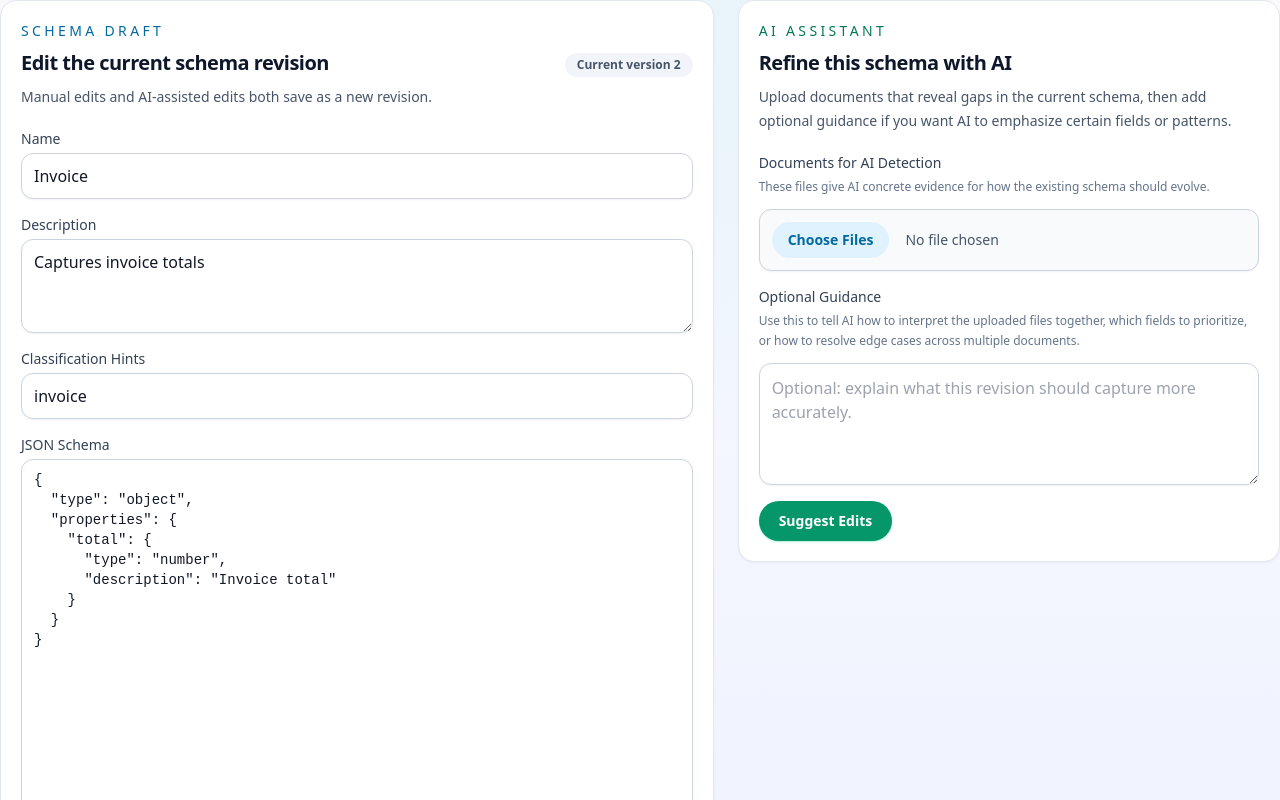
SchemaWorkbench › shows edit diffs, applies them, and can discard the suggestion
The image size is (1280, 800).
Replace the text in the text box labelled "Optional Guidance" with "Add line items": (1009, 424) x1=759 y1=363 x2=1259 y2=485
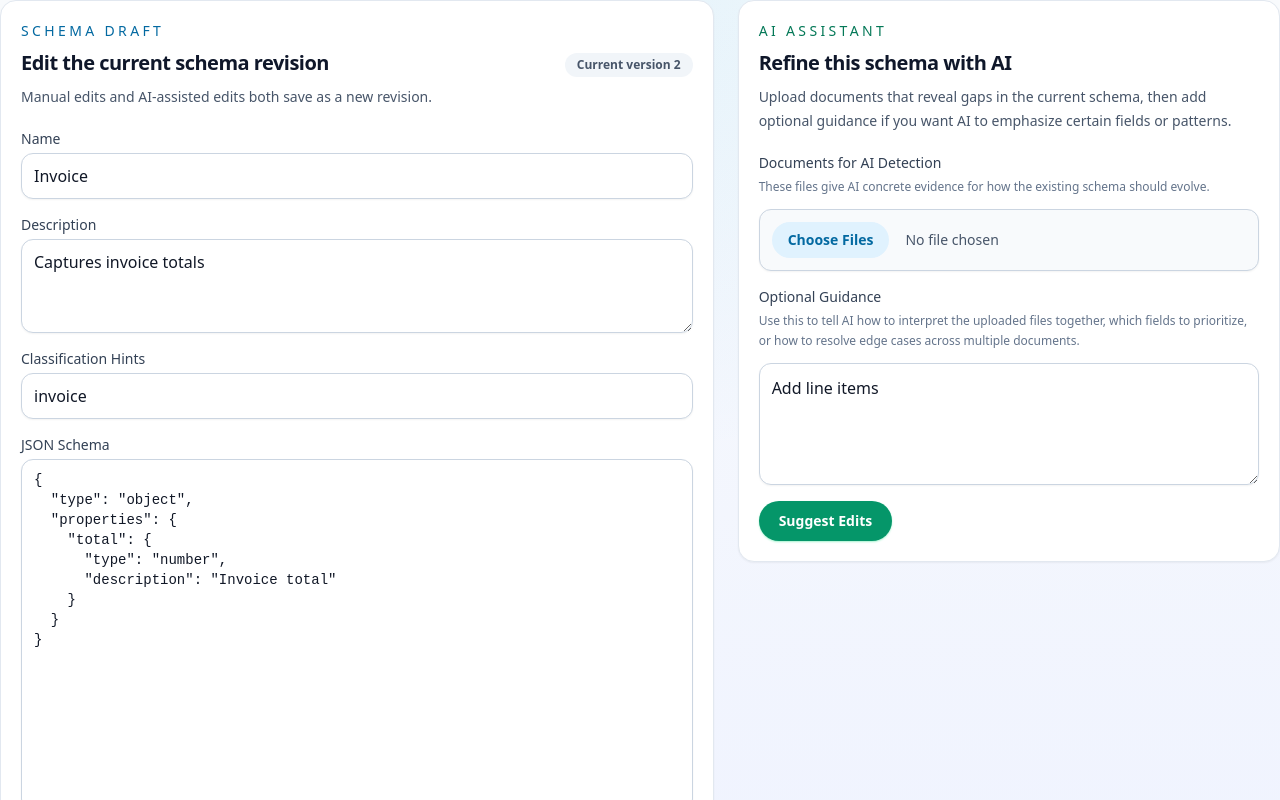
Click the button "Suggest Edits": click(825, 521) x1=759 y1=501 x2=892 y2=541
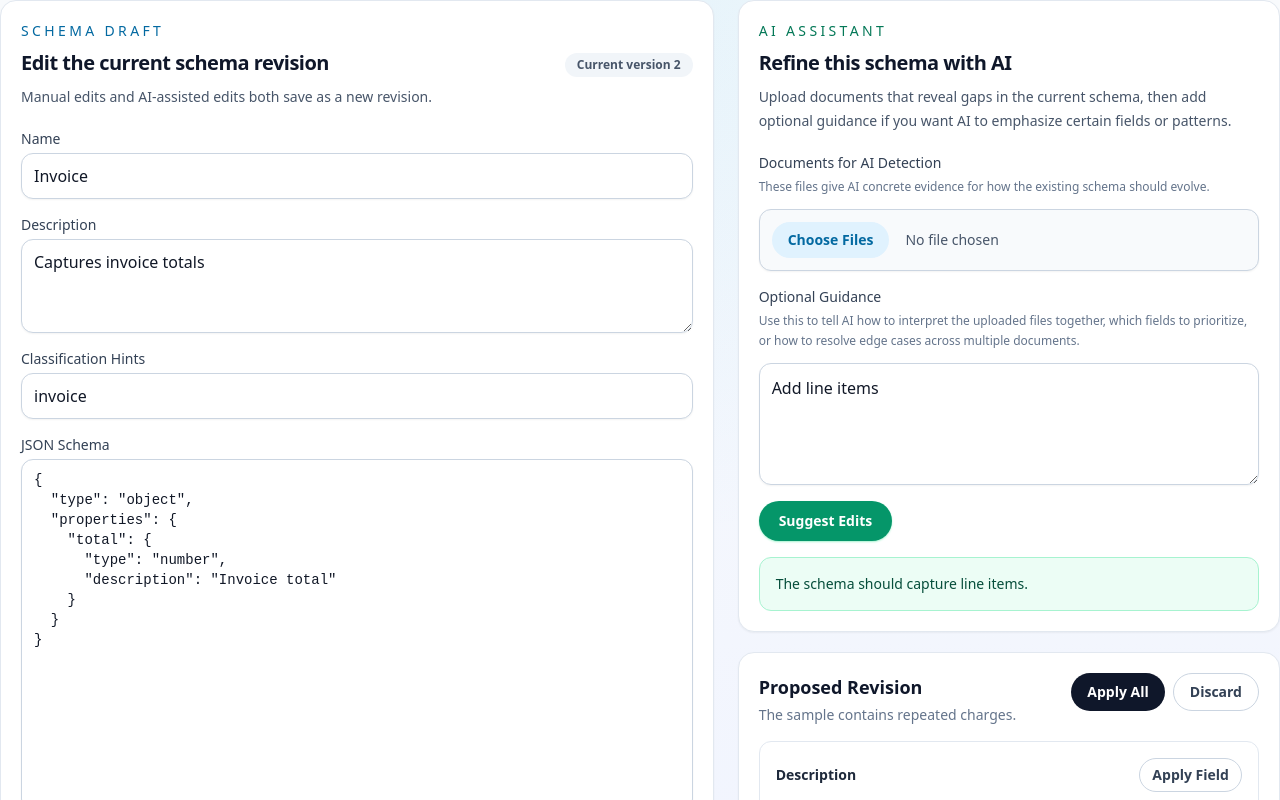
expect the heading "Proposed Revision" is shown: met, box x1=759 y1=675 x2=922 y2=699
Click the button "Apply Field": click(1191, 775) x1=1139 y1=758 x2=1242 y2=792
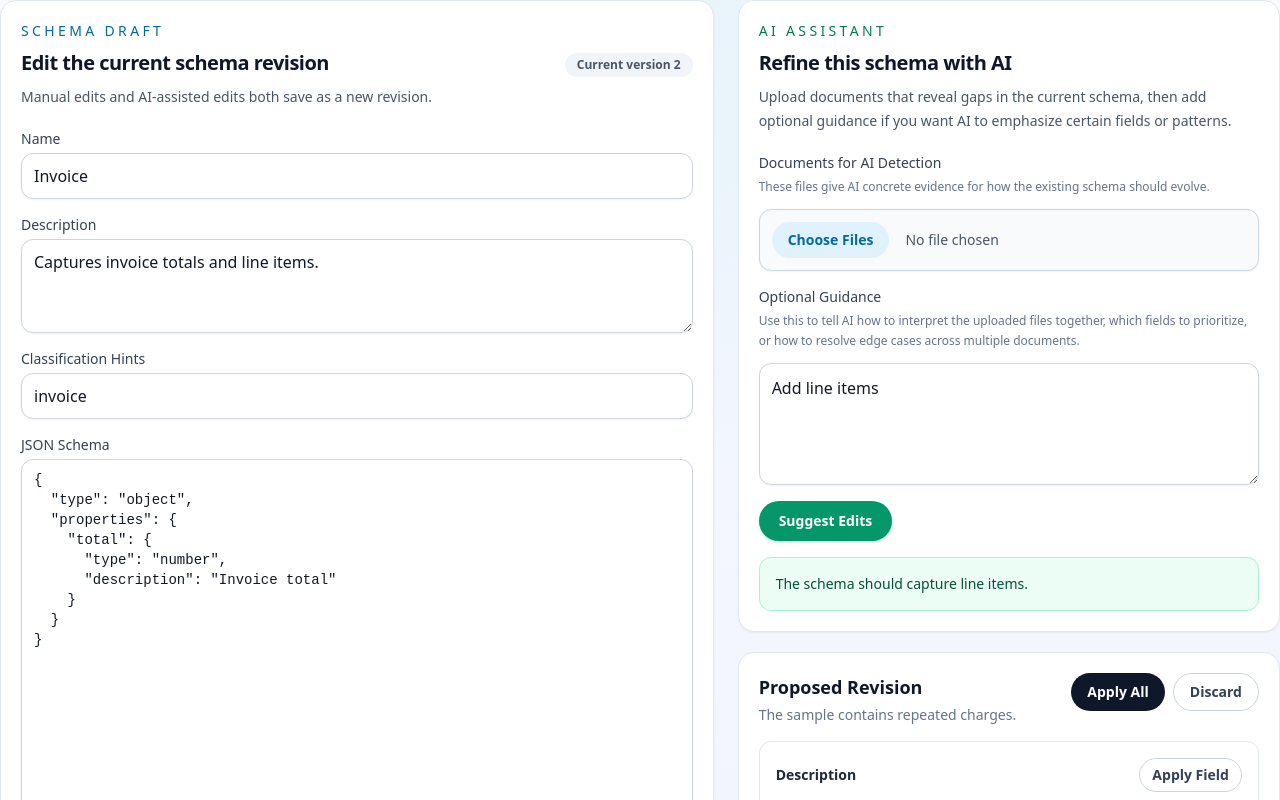
expect the text box labelled "Description" holds "Captures invoice totals and line items.": met, box x1=21 y1=239 x2=693 y2=333
Click the button "Discard": click(1216, 692) x1=1173 y1=673 x2=1259 y2=711
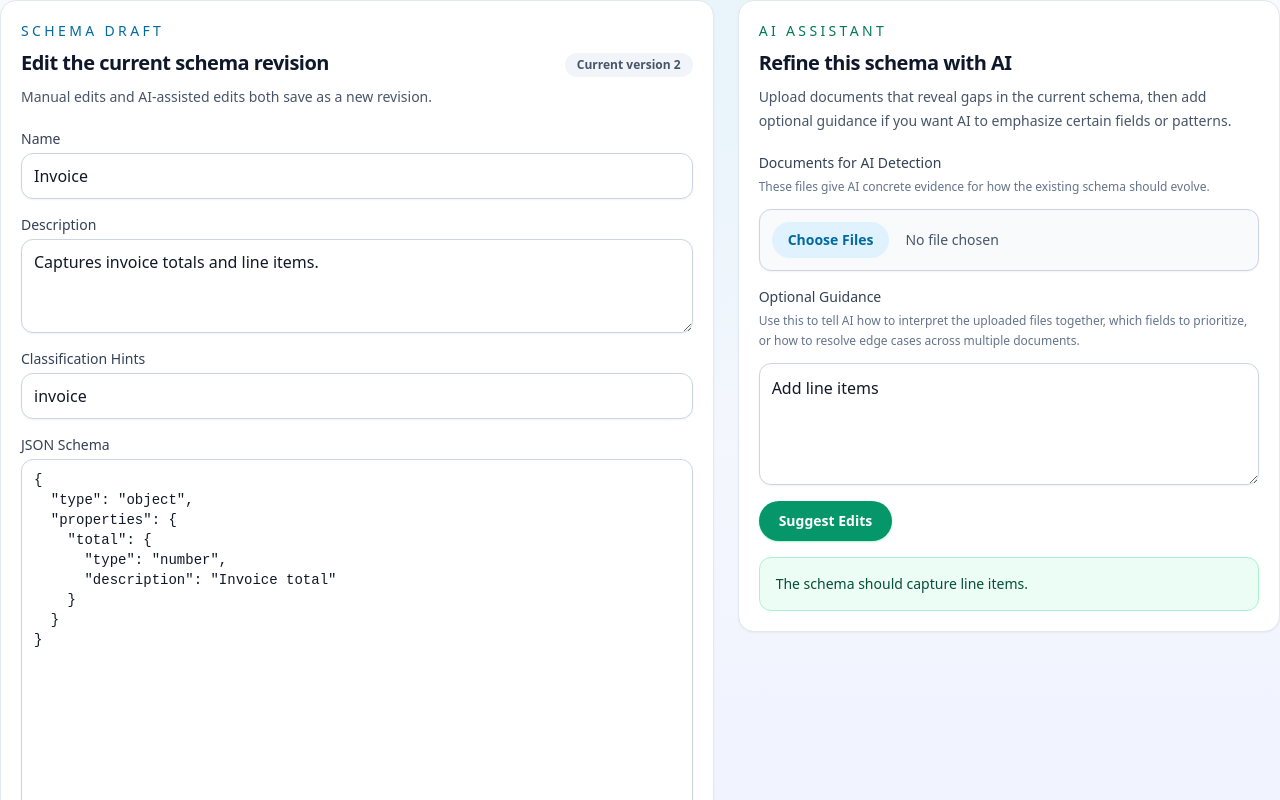
expect the heading "Proposed Revision" is gone: met
